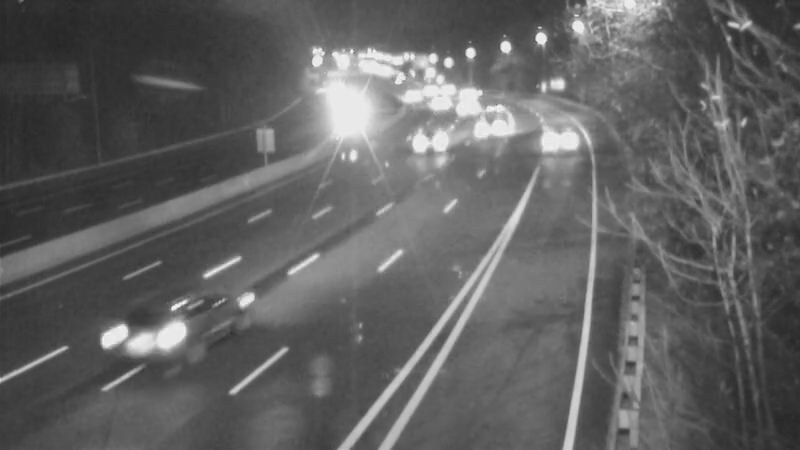vehicle: (86, 283, 196, 393), (511, 112, 591, 192), (388, 66, 438, 116), (411, 81, 461, 131), (437, 84, 487, 134), (467, 85, 517, 135), (463, 96, 513, 146), (401, 119, 451, 169), (324, 102, 374, 152)
